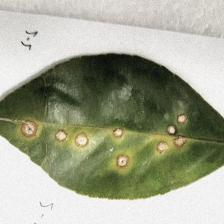canker: (17, 108, 190, 179)
